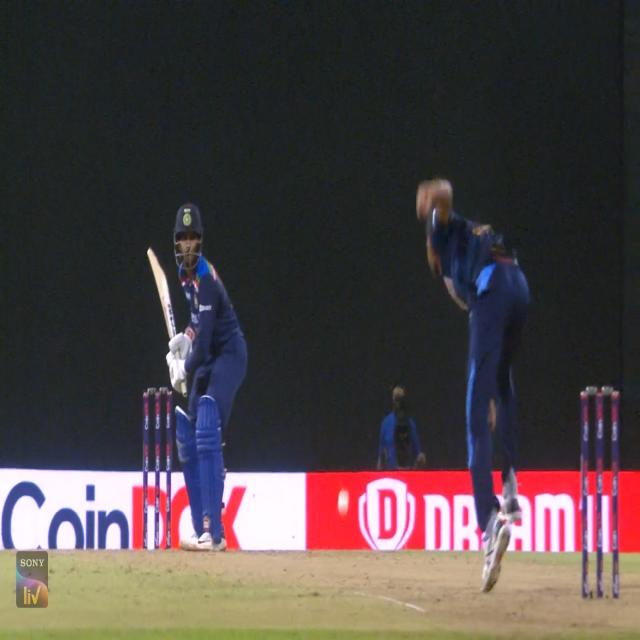ball: (337, 491, 350, 516)
